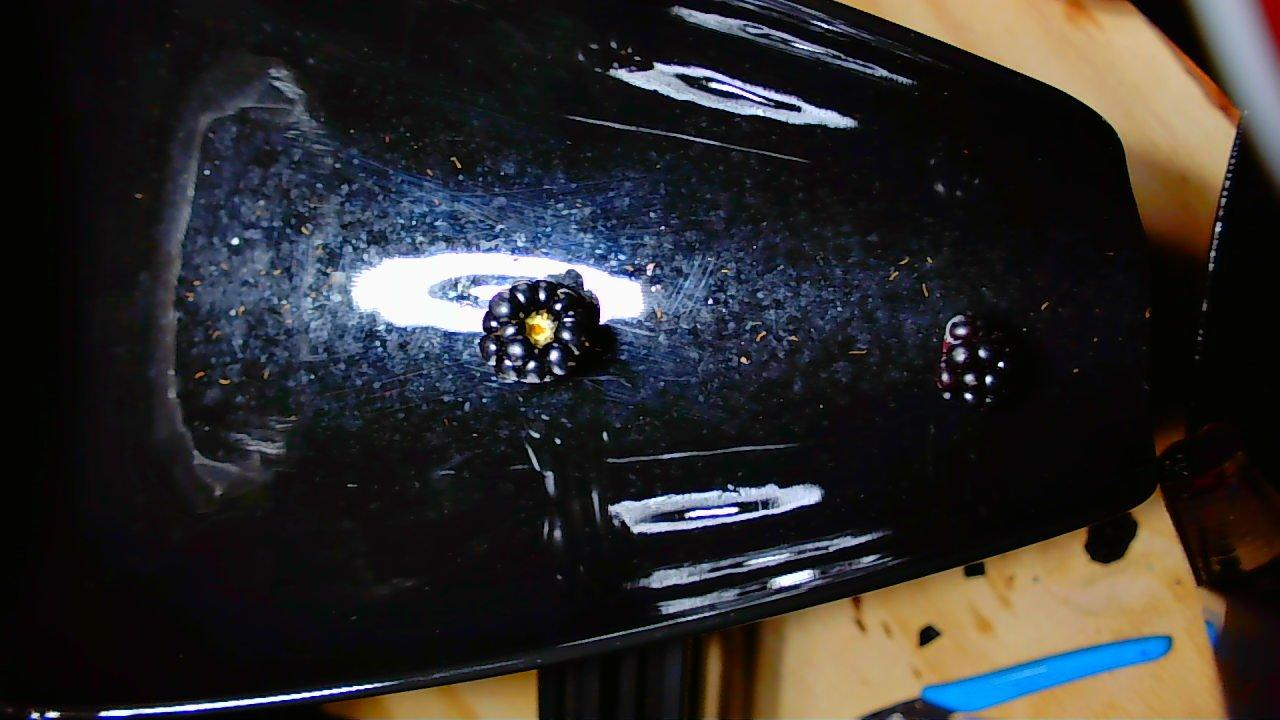berry: (477, 279, 599, 382), (935, 314, 1010, 405)
